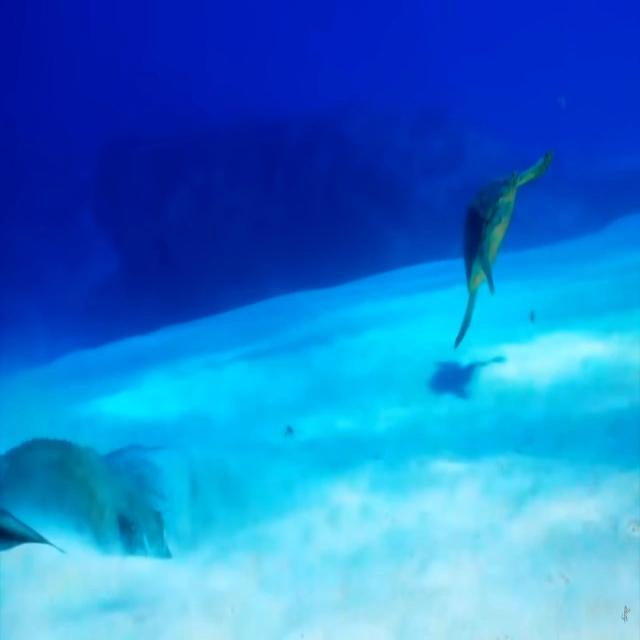Sea turtle: (0, 430, 184, 570), (452, 148, 554, 356)
